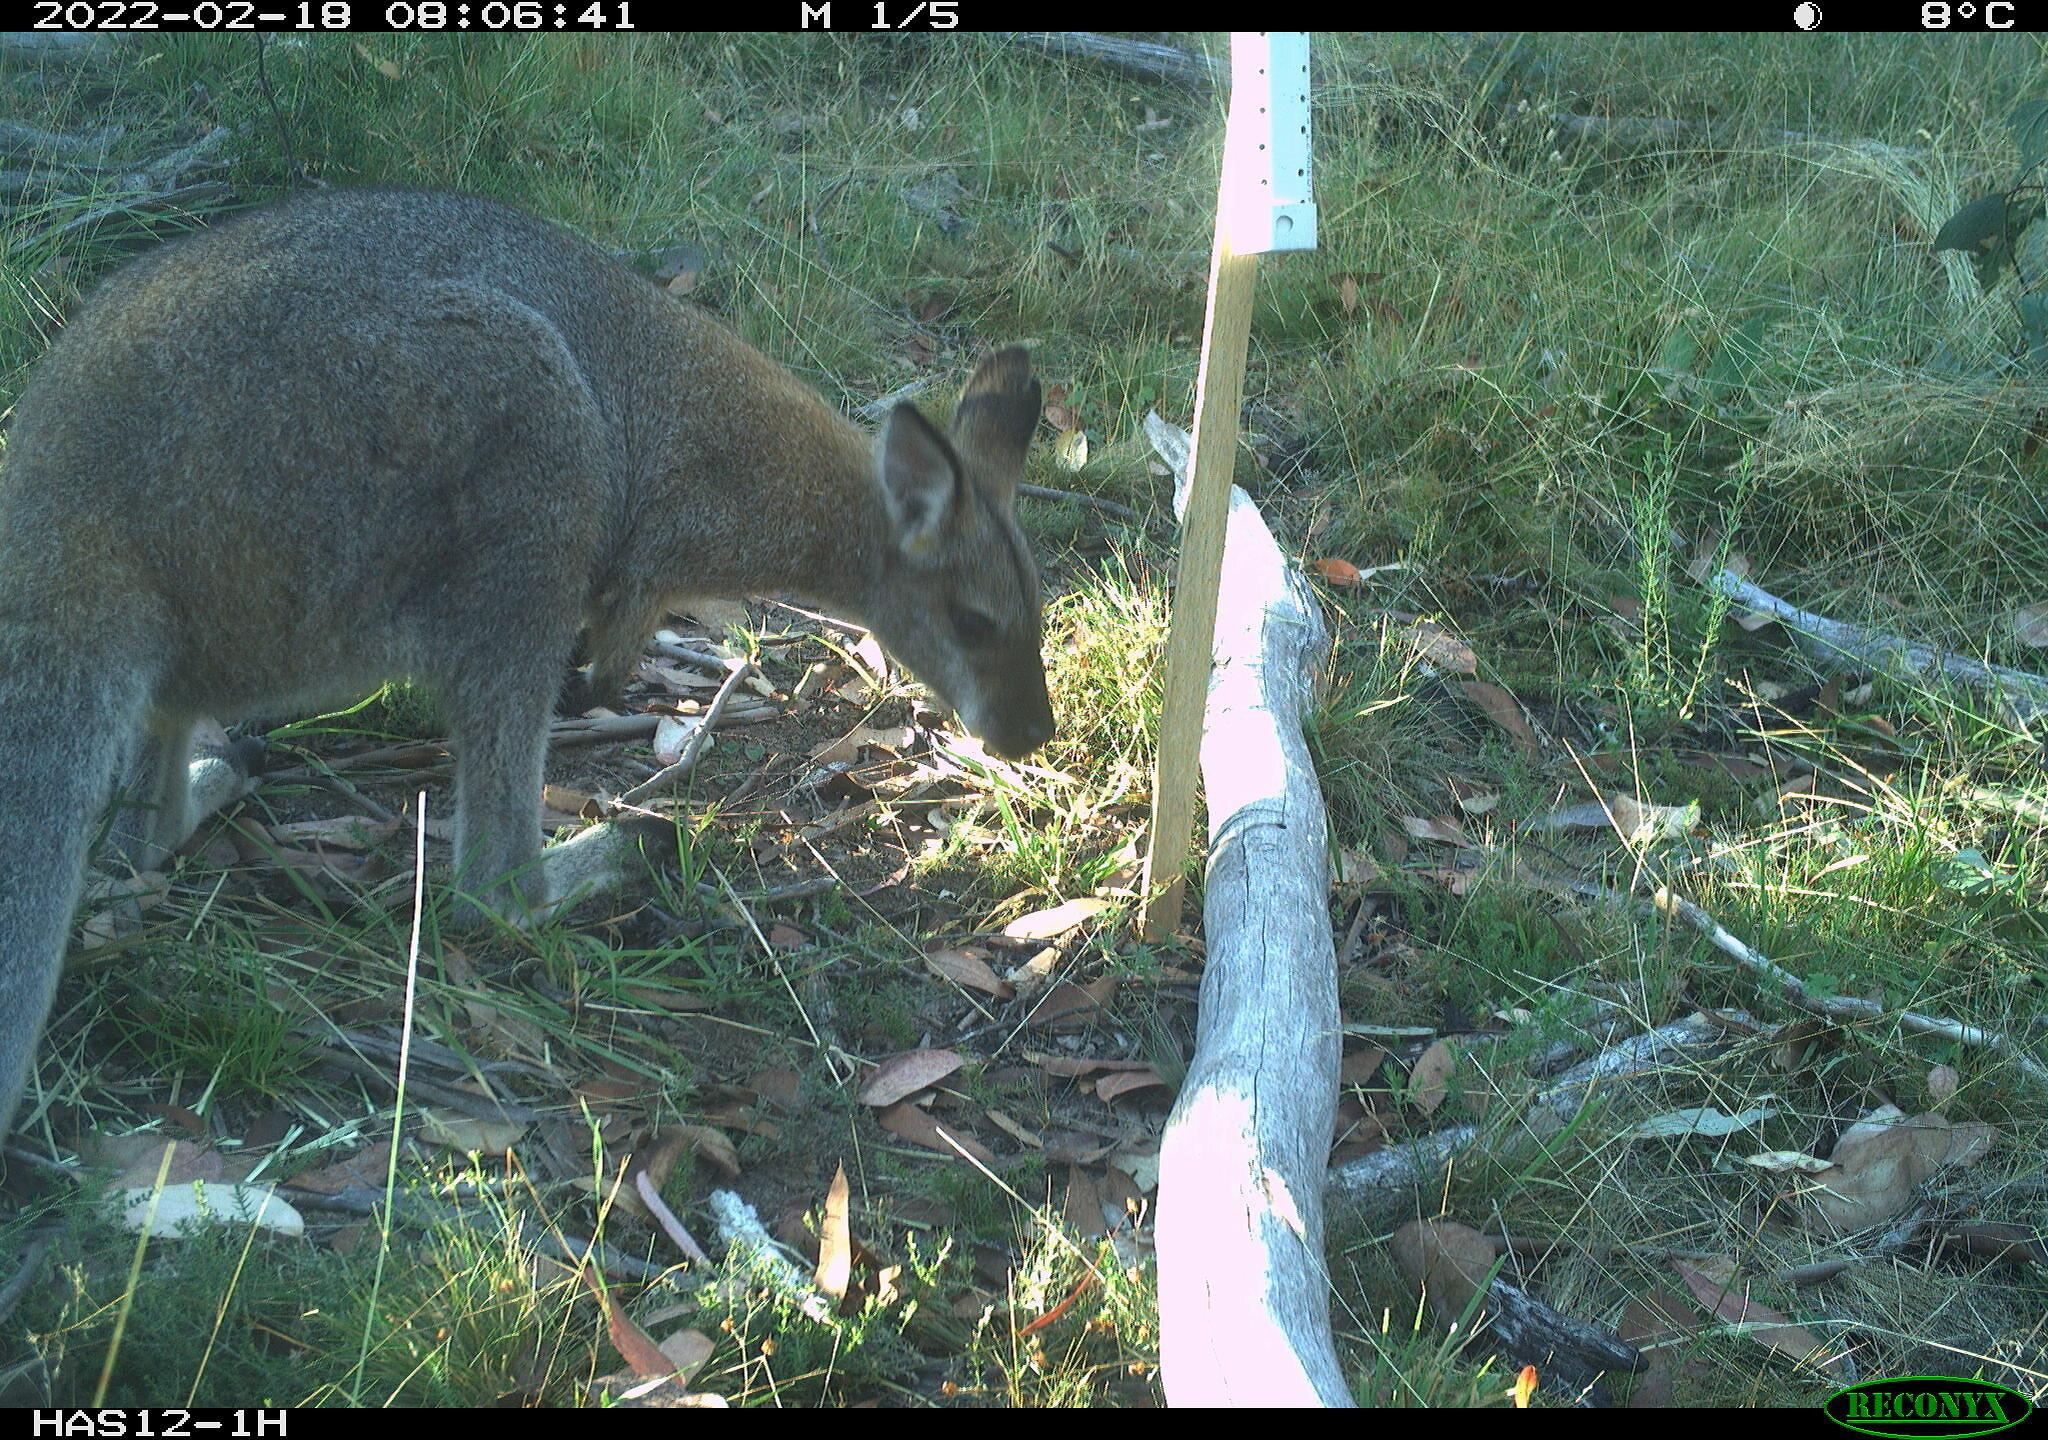Red-necked wallaby: (0, 184, 1061, 1159)
